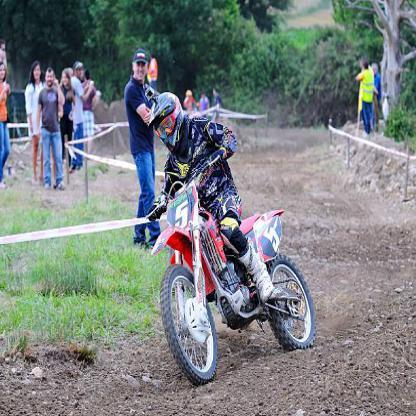Motorcycle: (143, 178, 324, 386)
